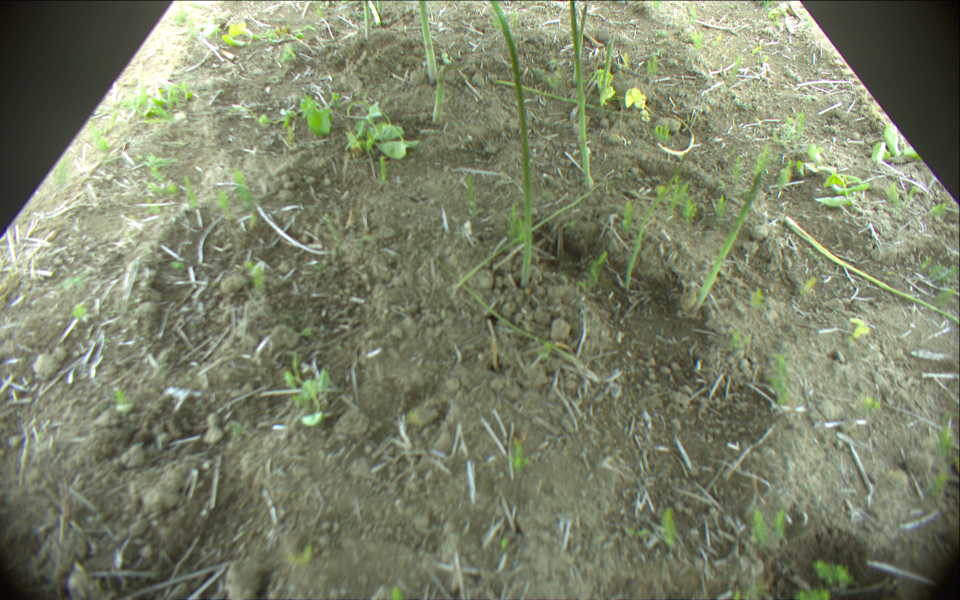aspa: (429, 251, 592, 376), (784, 217, 960, 327), (453, 190, 596, 289), (489, 1, 534, 289), (697, 171, 763, 309), (625, 153, 688, 288), (491, 77, 646, 119), (567, 1, 593, 189), (567, 5, 588, 86), (419, 1, 438, 85), (601, 33, 614, 92), (432, 73, 445, 126), (361, 1, 371, 39), (366, 1, 381, 26), (379, 1, 383, 14)
